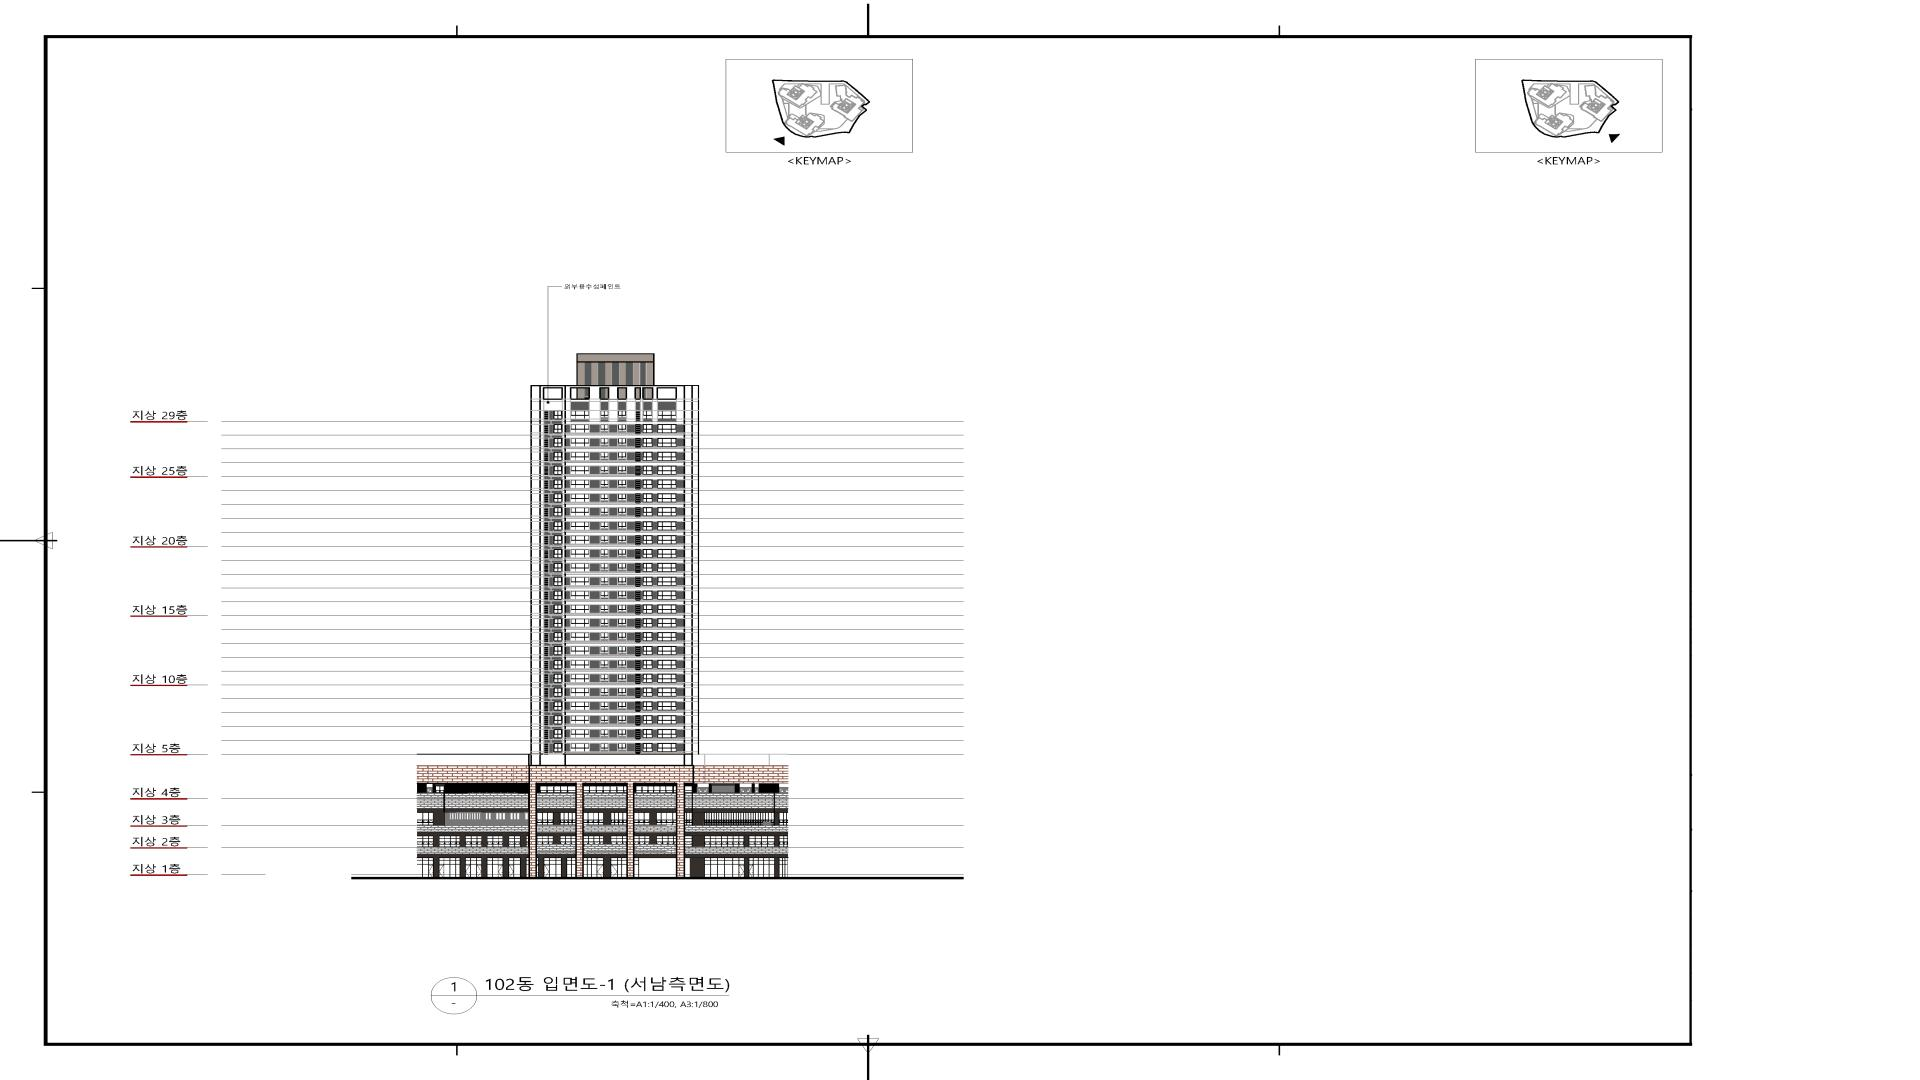door: (610, 864, 618, 877), (543, 864, 550, 877), (597, 864, 604, 877), (428, 864, 434, 877), (465, 864, 471, 877), (476, 864, 482, 877), (508, 864, 514, 877), (738, 864, 744, 877), (439, 864, 444, 877), (498, 864, 503, 877), (749, 864, 754, 877)
wall: (416, 353, 789, 879)
window: (748, 836, 775, 848), (656, 812, 677, 825), (584, 812, 604, 825), (657, 387, 677, 400), (570, 387, 590, 400), (543, 387, 563, 400), (722, 836, 745, 847), (439, 836, 460, 847), (417, 812, 433, 826), (537, 812, 554, 825), (704, 836, 722, 848), (560, 812, 576, 825), (611, 812, 627, 825), (634, 812, 650, 825), (657, 479, 677, 489), (657, 618, 677, 628), (657, 701, 677, 711), (417, 836, 433, 848), (487, 836, 503, 848), (465, 836, 482, 847), (657, 424, 677, 433), (657, 438, 677, 447), (657, 452, 677, 461), (657, 466, 677, 475), (657, 493, 677, 502), (657, 507, 677, 516), (657, 521, 677, 530), (657, 535, 677, 544), (657, 549, 677, 558), (657, 563, 677, 572), (657, 577, 677, 586), (657, 591, 677, 600), (657, 605, 677, 614), (657, 632, 677, 641), (657, 646, 677, 655), (657, 660, 677, 669), (657, 674, 677, 683), (657, 688, 677, 697), (657, 715, 677, 724), (657, 729, 677, 738), (657, 743, 677, 752), (763, 812, 775, 826), (584, 836, 604, 844), (656, 836, 676, 844), (642, 387, 654, 400), (658, 411, 676, 419), (571, 411, 589, 419), (571, 425, 589, 433), (571, 439, 589, 447), (571, 577, 589, 585), (571, 591, 589, 599), (571, 605, 589, 613), (571, 619, 589, 627), (571, 633, 589, 641), (571, 647, 589, 655), (571, 661, 589, 669), (571, 674, 589, 682), (571, 688, 589, 696), (571, 702, 589, 710), (571, 716, 589, 724), (571, 730, 589, 738), (571, 452, 589, 460), (571, 466, 589, 474), (571, 480, 589, 488), (571, 494, 589, 502), (571, 508, 589, 516), (571, 522, 589, 530), (571, 536, 589, 544), (571, 550, 589, 558), (571, 563, 589, 571), (704, 812, 714, 826), (714, 812, 724, 826), (724, 812, 734, 826), (734, 812, 744, 826), (617, 387, 627, 400), (599, 387, 609, 400), (537, 836, 553, 844), (611, 836, 627, 844), (634, 836, 650, 844), (571, 744, 589, 751), (684, 812, 693, 826), (779, 812, 788, 826), (744, 812, 753, 826), (754, 812, 763, 826), (509, 836, 520, 847), (560, 836, 575, 844), (779, 836, 788, 848), (643, 604, 653, 614), (643, 618, 653, 628), (553, 521, 563, 531), (553, 590, 563, 600), (553, 604, 563, 614), (553, 701, 563, 711), (643, 493, 653, 503), (642, 424, 653, 433), (642, 438, 653, 447), (642, 660, 653, 669), (642, 466, 653, 475), (642, 535, 653, 544), (634, 387, 641, 400), (553, 743, 563, 752), (553, 424, 563, 433), (643, 549, 653, 558), (643, 563, 653, 572), (643, 577, 653, 586), (643, 591, 653, 600), (643, 632, 653, 641), (643, 646, 653, 655), (643, 674, 653, 683), (643, 688, 653, 697), (643, 702, 653, 711), (643, 715, 653, 724), (643, 729, 653, 738), (643, 743, 653, 752), (553, 438, 563, 447), (553, 452, 563, 461), (553, 466, 563, 475), (553, 480, 563, 489), (553, 493, 563, 502), (553, 507, 563, 516), (553, 535, 563, 544), (553, 549, 563, 558), (553, 563, 563, 572), (553, 577, 563, 586), (553, 618, 563, 627), (553, 632, 563, 641), (553, 646, 563, 655), (553, 660, 563, 669), (553, 674, 563, 683), (553, 688, 563, 697), (553, 715, 563, 724), (553, 729, 563, 738), (643, 452, 653, 461), (643, 480, 653, 489), (643, 507, 653, 516), (643, 521, 653, 530), (685, 836, 693, 847), (643, 411, 652, 420), (553, 411, 563, 419), (635, 493, 641, 504), (635, 507, 641, 518), (635, 521, 641, 532), (635, 535, 641, 546), (635, 618, 641, 629), (635, 632, 641, 643), (635, 646, 641, 657), (635, 701, 641, 712), (635, 729, 641, 740), (635, 743, 641, 754), (618, 411, 626, 419), (618, 425, 626, 433), (618, 452, 626, 460), (618, 466, 626, 474), (618, 480, 626, 488), (601, 466, 609, 474), (601, 563, 609, 571), (601, 577, 609, 585), (601, 716, 609, 724), (601, 730, 609, 738), (618, 494, 626, 502), (618, 508, 626, 516), (618, 522, 626, 530), (618, 536, 626, 544), (618, 563, 626, 571), (618, 577, 626, 585), (618, 591, 626, 599), (618, 605, 626, 613), (618, 619, 626, 627), (618, 633, 626, 641), (618, 674, 626, 682), (618, 688, 626, 696), (618, 702, 626, 710), (618, 716, 626, 724), (618, 730, 626, 738), (600, 439, 609, 446), (635, 424, 641, 434), (635, 438, 641, 448), (635, 452, 641, 462), (635, 466, 641, 476), (635, 480, 641, 490), (635, 549, 641, 559), (635, 563, 641, 573), (635, 577, 641, 587), (635, 591, 641, 601), (635, 605, 641, 615), (635, 660, 641, 670), (635, 674, 641, 684), (635, 688, 641, 698), (635, 716, 641, 726), (618, 439, 626, 446), (601, 411, 608, 419), (601, 425, 608, 433), (601, 452, 608, 460), (601, 480, 608, 488), (601, 494, 608, 502), (601, 508, 608, 516), (601, 522, 608, 530), (601, 536, 608, 544), (601, 550, 608, 558), (601, 591, 608, 599), (601, 605, 608, 613), (601, 619, 608, 627), (601, 633, 608, 641), (601, 647, 609, 654), (601, 660, 608, 668), (601, 674, 608, 682), (601, 688, 608, 696), (601, 702, 608, 710), (601, 744, 609, 751), (618, 550, 626, 557), (618, 647, 626, 654), (618, 661, 626, 668), (618, 744, 626, 751), (544, 438, 549, 448), (544, 577, 549, 587), (544, 452, 549, 461), (544, 466, 549, 475), (544, 480, 549, 489), (544, 494, 549, 503), (544, 508, 549, 517), (544, 536, 549, 545), (544, 550, 549, 559), (544, 564, 549, 573), (544, 591, 549, 600), (544, 605, 549, 614), (544, 647, 549, 656), (544, 661, 549, 670), (544, 675, 549, 684), (544, 688, 549, 697), (544, 702, 549, 711), (544, 716, 549, 725), (544, 730, 549, 739), (544, 744, 549, 753), (636, 411, 640, 421), (544, 522, 548, 531), (544, 619, 548, 628), (544, 633, 548, 642), (544, 411, 548, 420), (544, 425, 548, 434)
